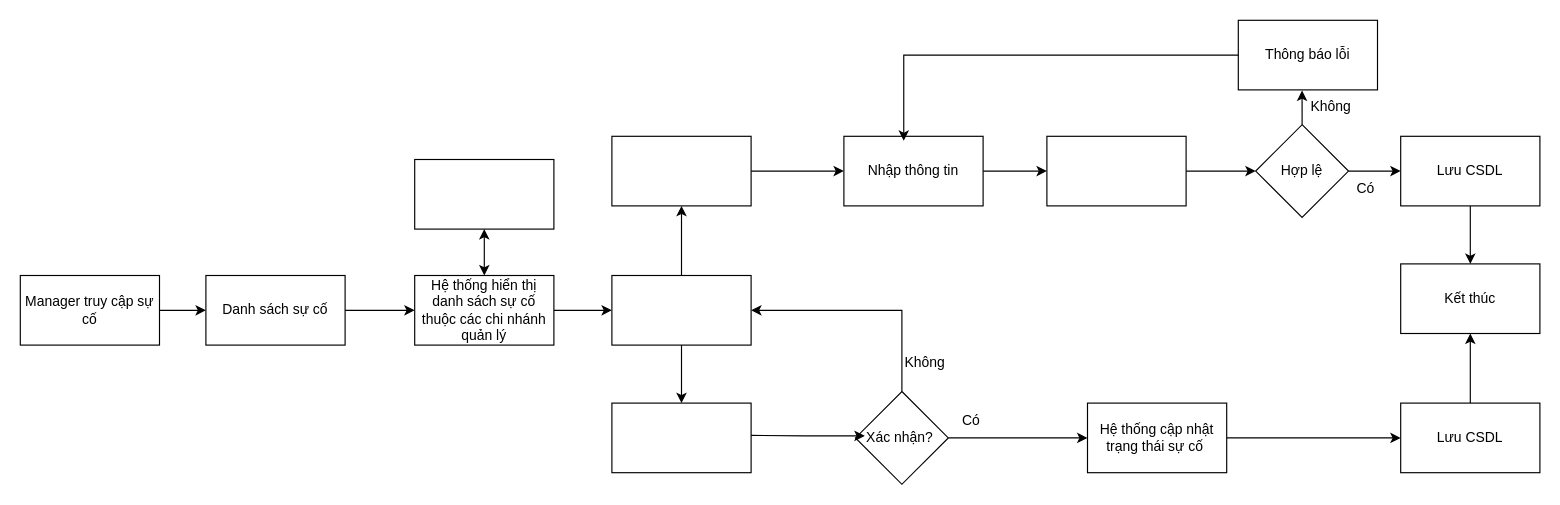
This 1560x505 diagram has some shape labels left out. Here are the shapes that lost their labels. From the top down, the box of each, then its label:
(611, 135, 751, 206): Sửa sự cố
(1046, 135, 1186, 206): Hệ thống kiểm tra dữ liệu
(414, 158, 554, 229): Manager tìm kiếm theo tiêu đề, trạng thái, chi nhánh
(611, 274, 751, 345): Xem chi tiết sự cố
(611, 402, 751, 473): Cập nhật trạng thái
